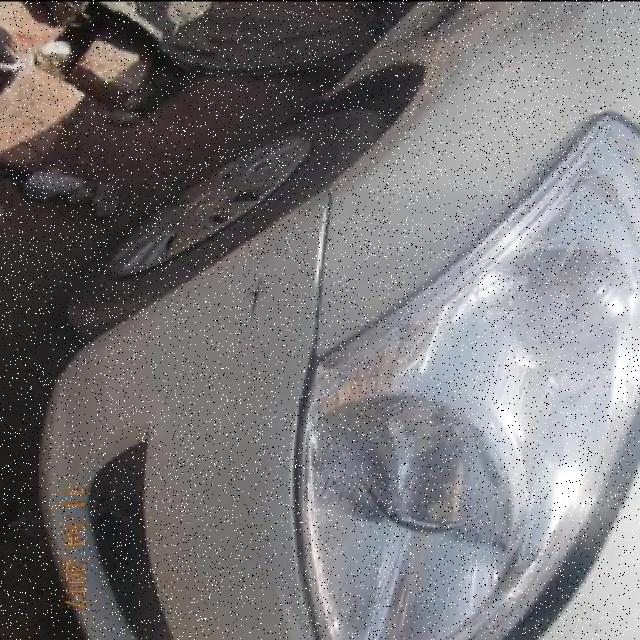damage: (244, 274, 268, 331)
